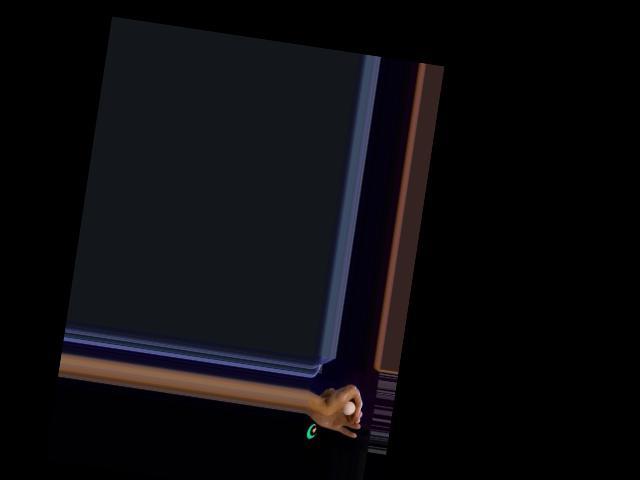egg: (343, 400, 356, 416)
